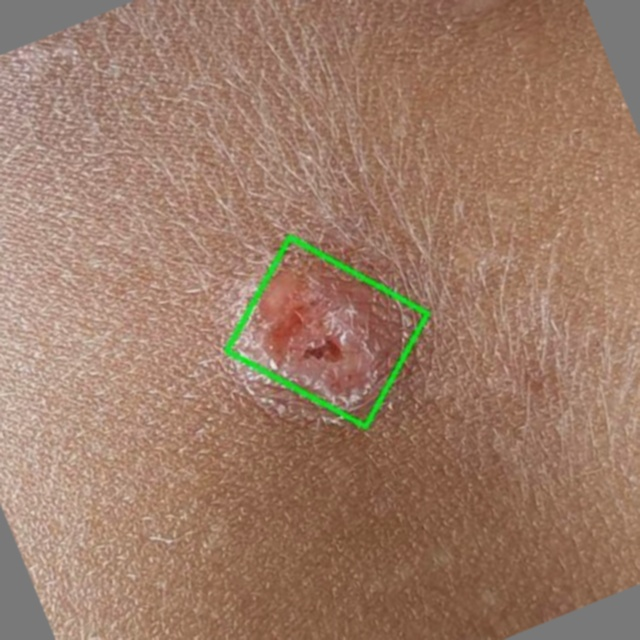Contact Dermatitis: (226, 237, 427, 427)
